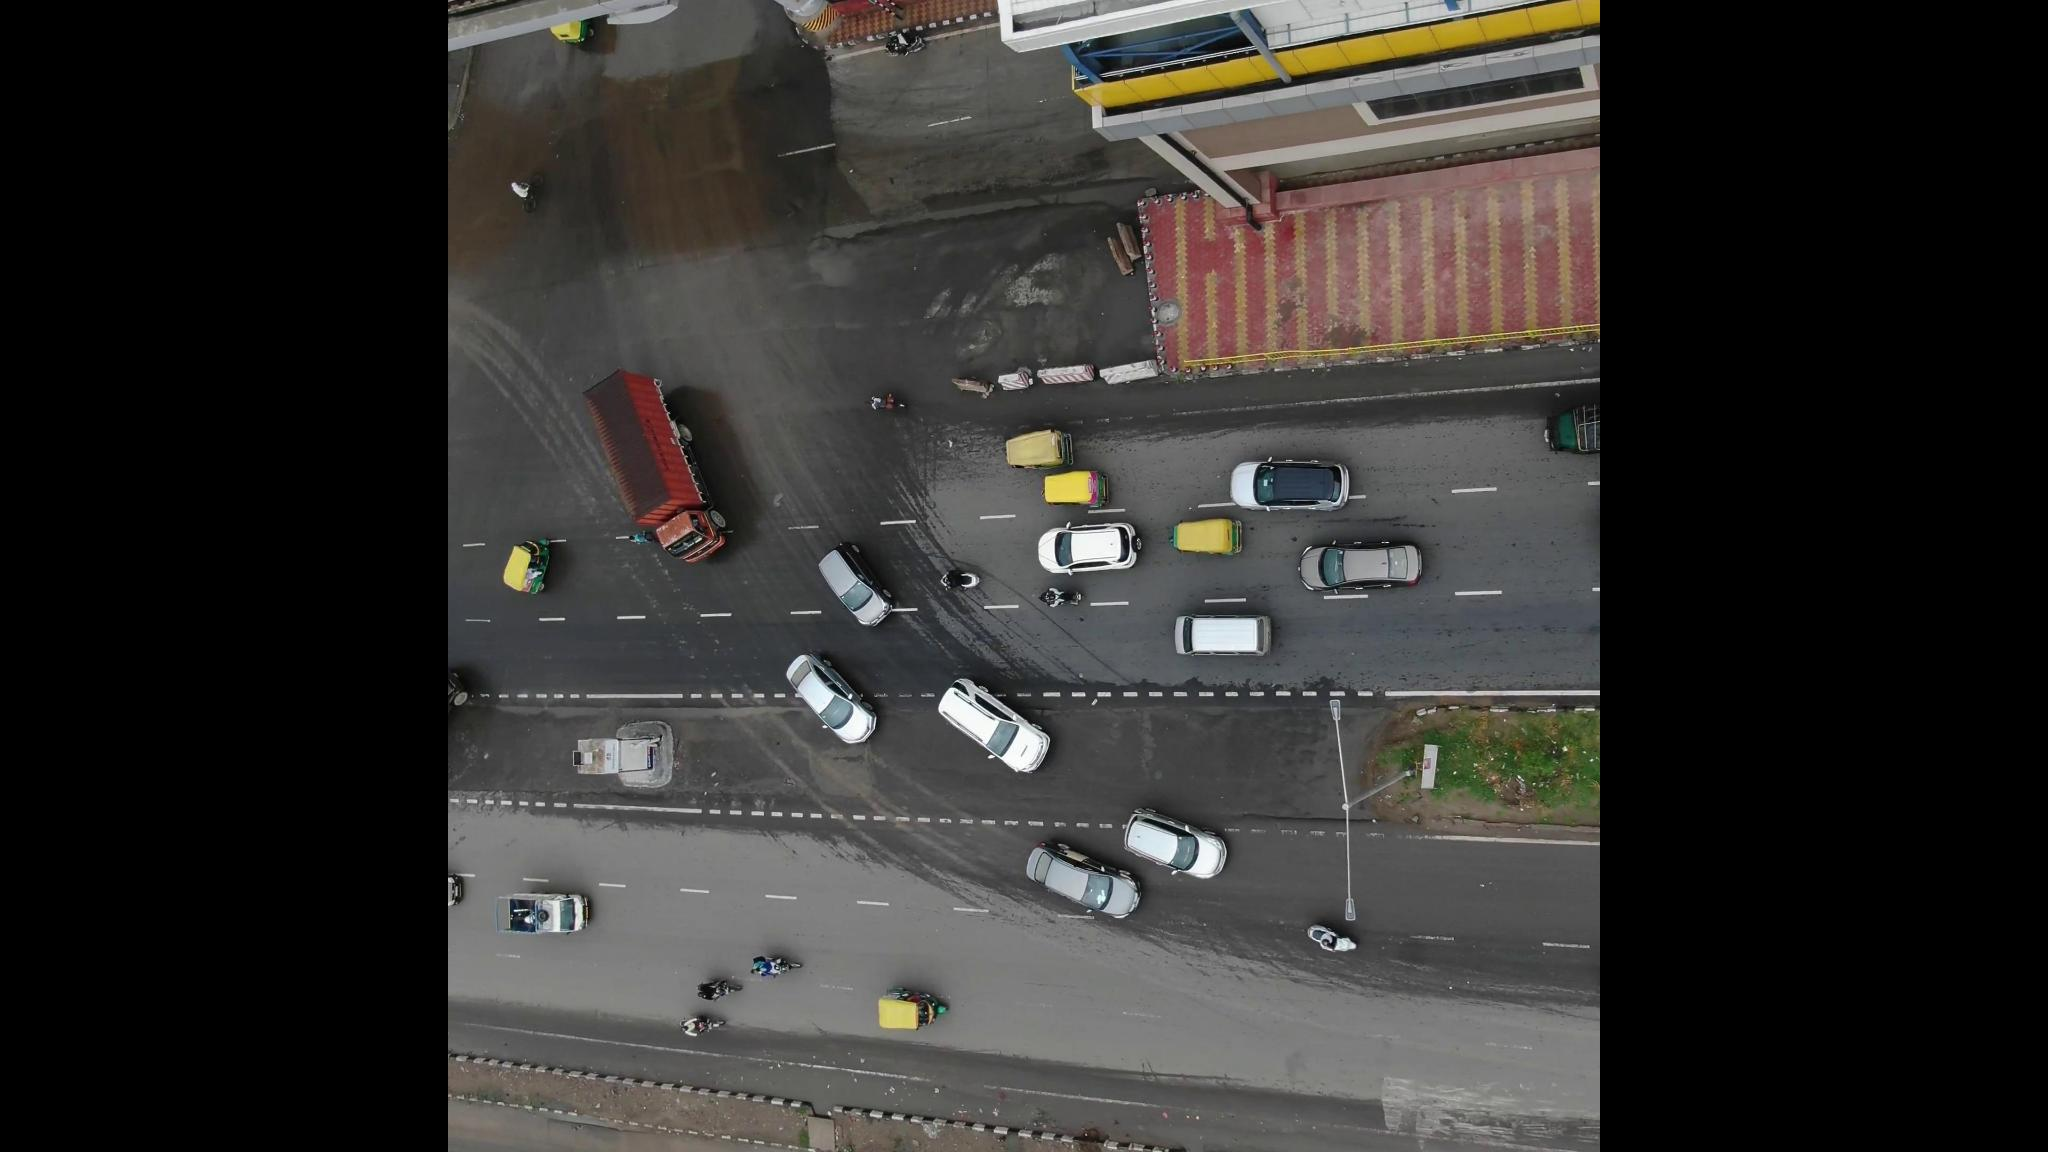Potholes: (805, 186, 940, 311), (1096, 699, 1190, 798)
